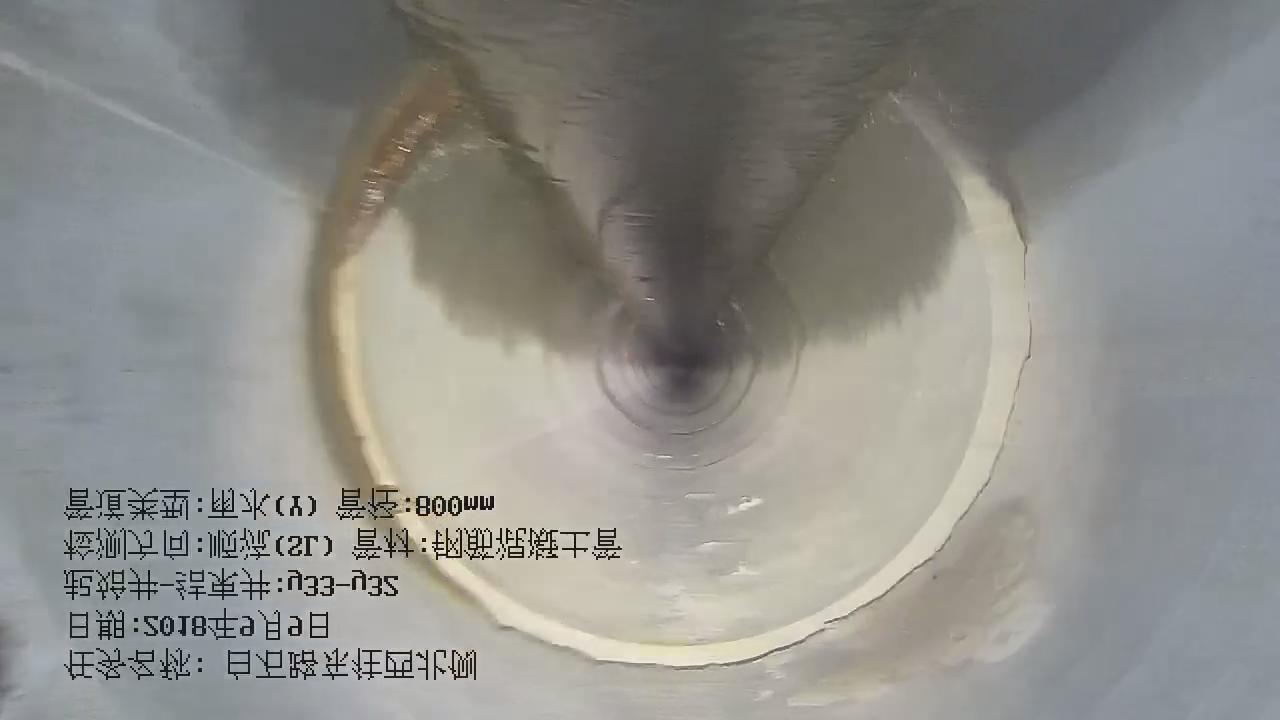CKTJ: (306, 43, 1040, 675)
